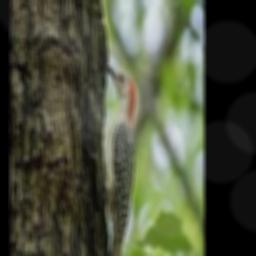Woodpecker: (89, 63, 135, 256)
